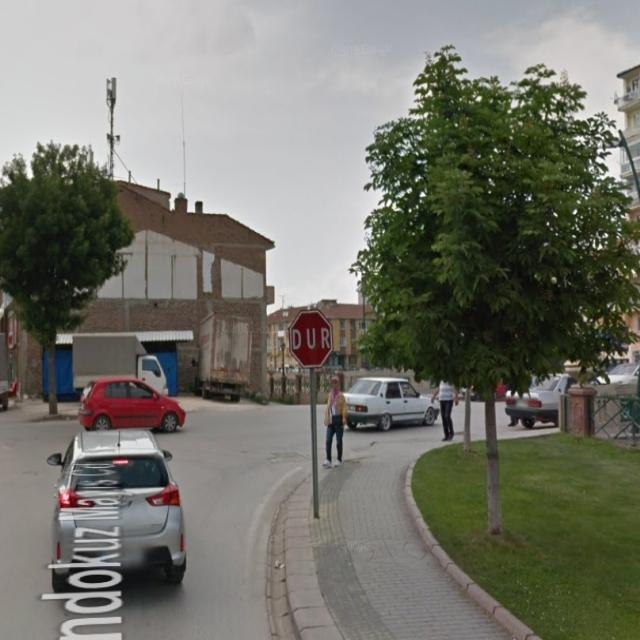dur: (289, 310, 332, 367)
